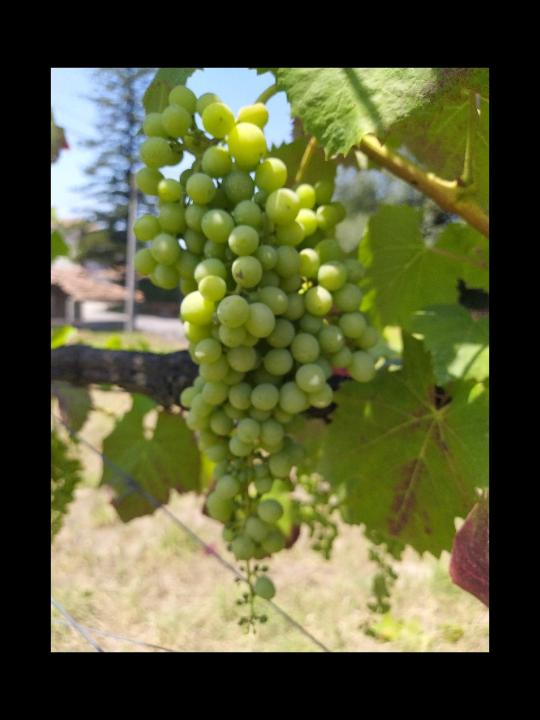grape: (129, 78, 377, 640)
